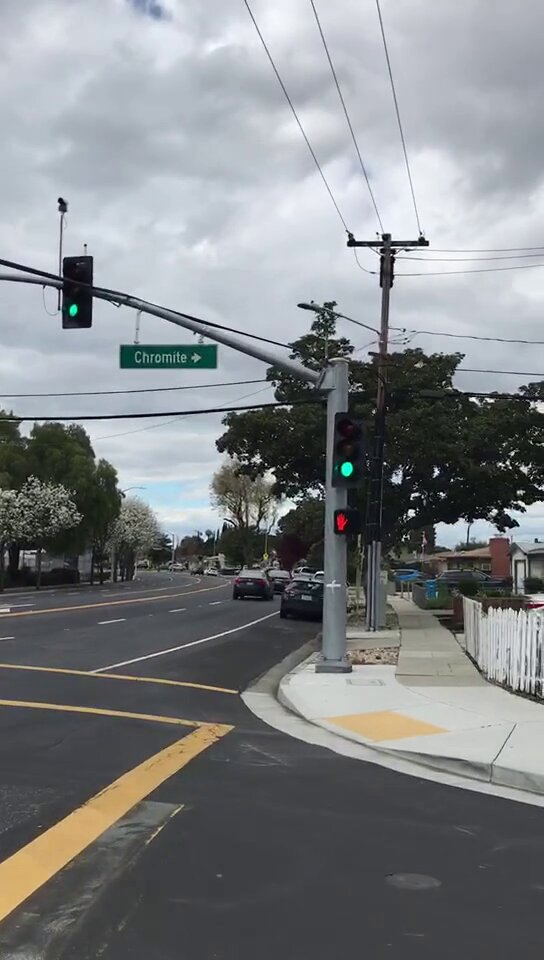green_light: (63, 257, 94, 328), (335, 411, 364, 486)
